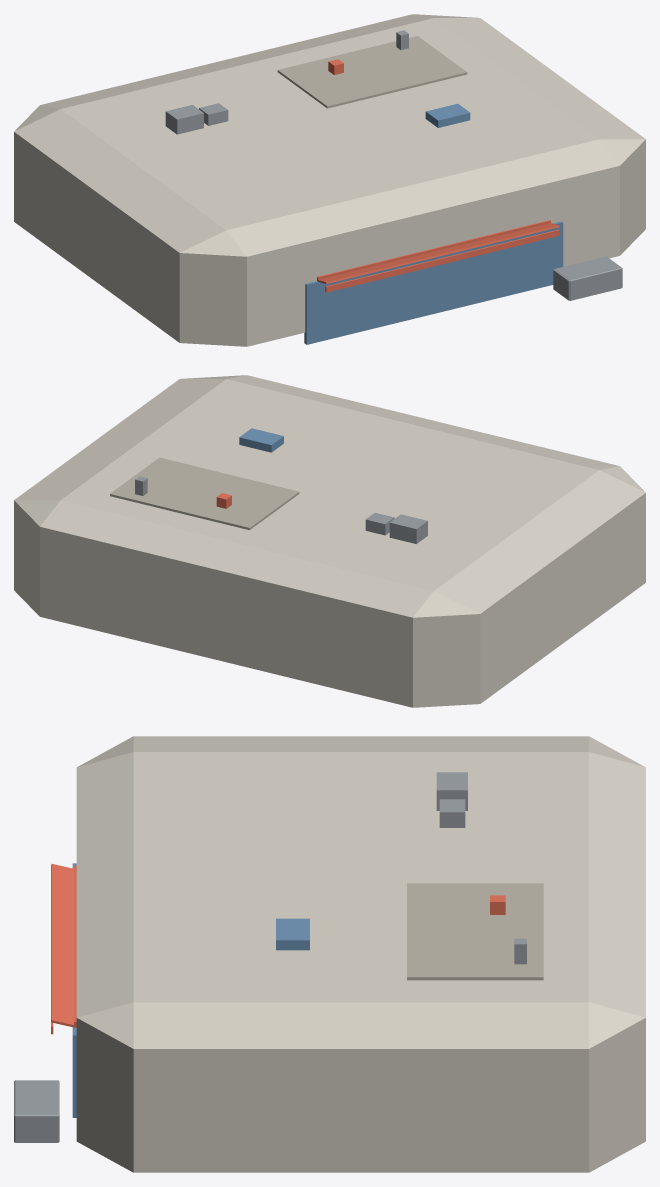
The model's file is market_l.glb.
3 renders of one model, top to bottom at view 1: azimuth 30°, elevation 25°; view 2: azimuth 150°, elevation 25°; view 3: azimuth 270°, elevation 25°, orthographic. The views are drawn at different scales.
Visible parts, largest first — view 1: walls, front, roofdeck, carts, valance, awn, awnbar, hvac, skylt, hvac2; view 2: walls, roofdeck, hvac, skylt, hvac2; view 3: walls, roofdeck, awn, carts, skylt, hvac, hvac2.
Boxes of the visible parts, x1=… form: walls: x1=14, y1=14, x2=645, y2=346; front: x1=304, y1=221, x2=563, y2=344; roofdeck: x1=277, y1=36, x2=467, y2=108; carts: x1=553, y1=256, x2=622, y2=300; valance: x1=325, y1=229, x2=559, y2=292; awn: x1=317, y1=223, x2=559, y2=283; awnbar: x1=317, y1=220, x2=550, y2=279; hvac: x1=165, y1=105, x2=203, y2=134; skylt: x1=425, y1=103, x2=470, y2=127; hvac2: x1=199, y1=103, x2=228, y2=125; walls: x1=14, y1=375, x2=645, y2=707; roofdeck: x1=110, y1=457, x2=299, y2=530; hvac: x1=389, y1=514, x2=427, y2=543; skylt: x1=239, y1=428, x2=283, y2=452; hvac2: x1=365, y1=512, x2=394, y2=535; walls: x1=76, y1=736, x2=645, y2=1172; roofdeck: x1=407, y1=883, x2=543, y2=980; awn: x1=51, y1=863, x2=76, y2=1027; carts: x1=14, y1=1080, x2=59, y2=1142; skylt: x1=276, y1=918, x2=309, y2=950; hvac: x1=436, y1=772, x2=467, y2=810; hvac2: x1=439, y1=799, x2=465, y2=827.
Size of the model in its own units: 26 by 6.9 by 22.2.
